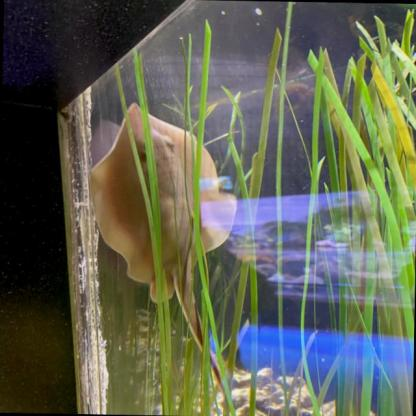stingray: (85, 102, 238, 304)
